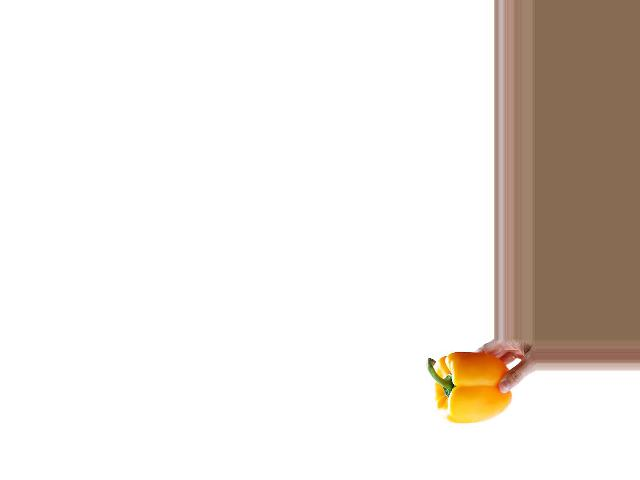bell_pepper: (423, 352, 513, 425)
